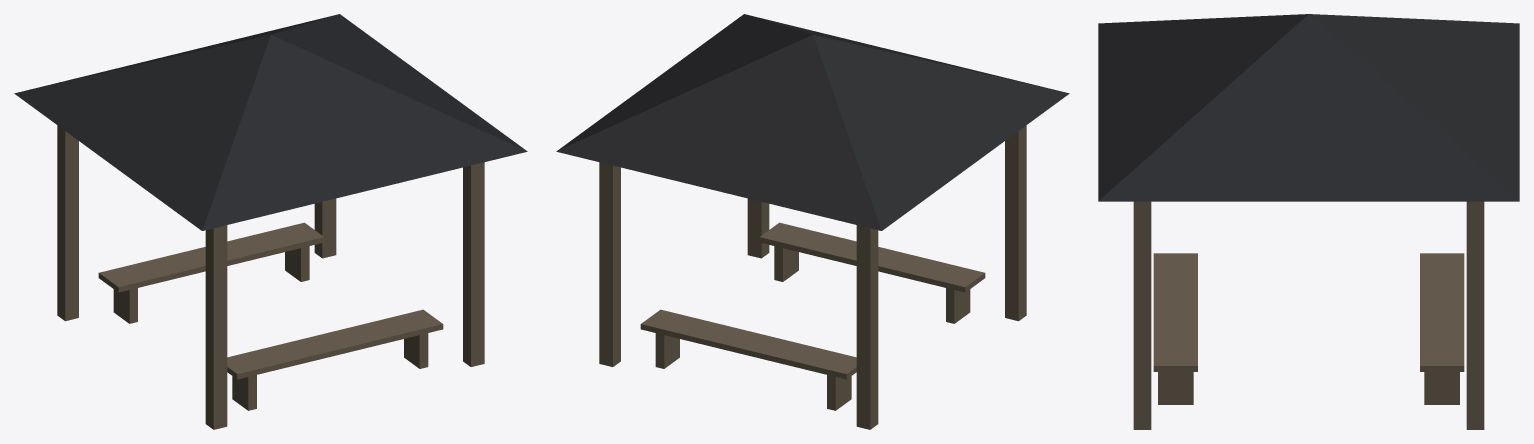
Rendered from site_feature3.fbx.
3 renders of one model, left to right at view 1: azimuth 30°, elevation 25°; view 2: azimuth 150°, elevation 25°; view 3: azimuth 270°, elevation 25°, orthographic. The views are drawn at different scales.
Visible parts, largest first — view 1: a3004/0/site_feature3; view 2: a3004/0/site_feature3; view 3: a3004/0/site_feature3.
Part boxes in pixels (x1,y1,x2,y2): a3004/0/site_feature3: [14, 14, 527, 429]; a3004/0/site_feature3: [556, 14, 1069, 429]; a3004/0/site_feature3: [1098, 14, 1519, 429].
Bounding box in the file's own units: 3.8 × 3.4 × 3.8.
